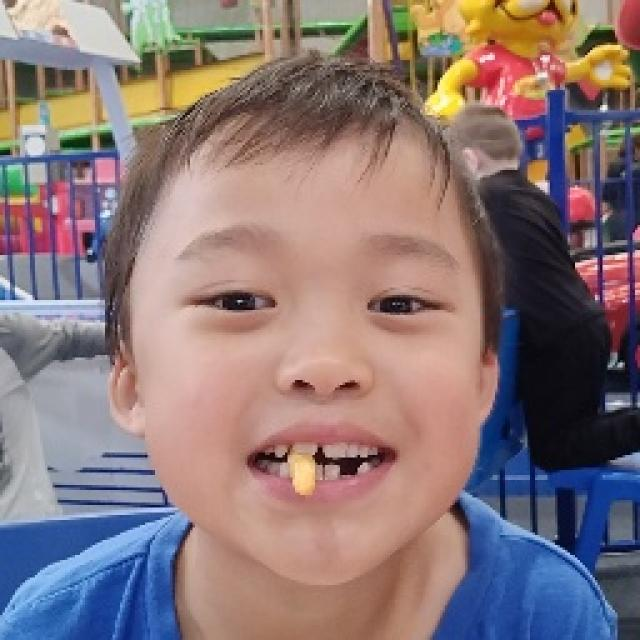earlobe: (107, 338, 145, 438), (474, 344, 500, 427)
